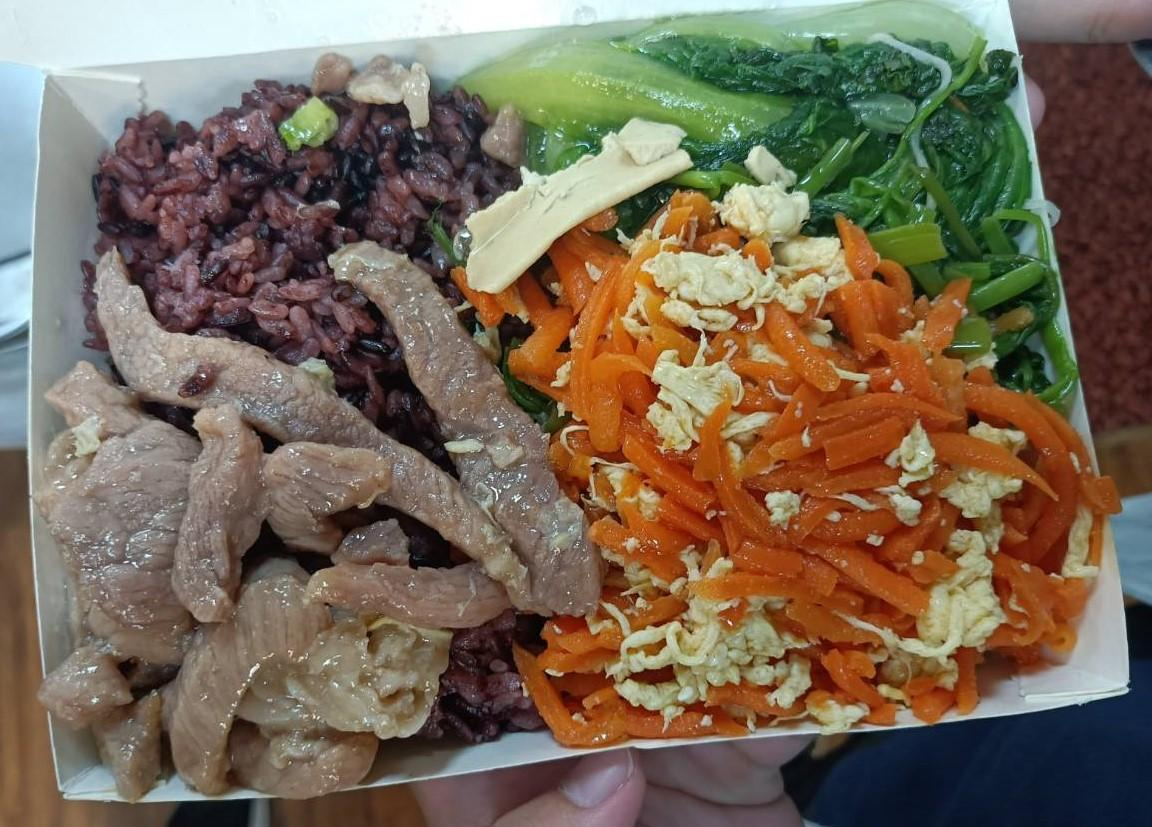big grilled chicken leg: (18, 36, 1152, 808)
braised fish: (88, 81, 542, 418)
braised fish fillet: (532, 224, 1099, 737), (492, 24, 1071, 389)
braised pork: (42, 244, 596, 800)
